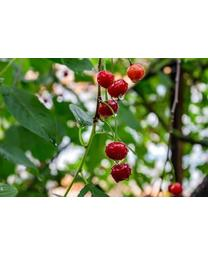cherry: (105, 141, 128, 161), (98, 98, 119, 117), (108, 78, 128, 97), (110, 164, 131, 181), (126, 64, 145, 82), (97, 70, 114, 87), (167, 182, 182, 194)
